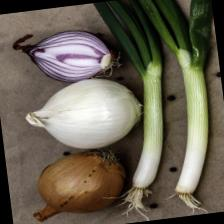onion: (21, 72, 147, 156), (24, 142, 132, 223), (9, 22, 119, 88)
